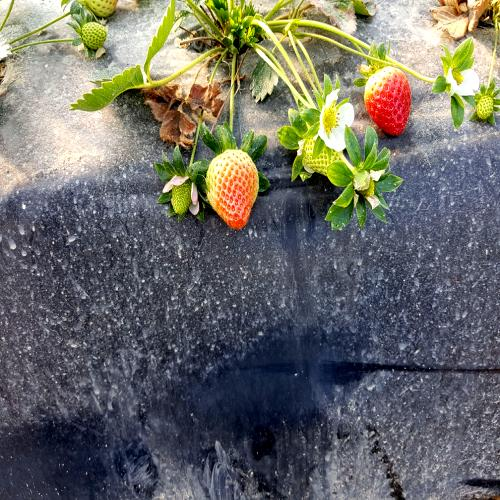partially-ripe: (202, 138, 264, 237), (358, 64, 425, 138)
